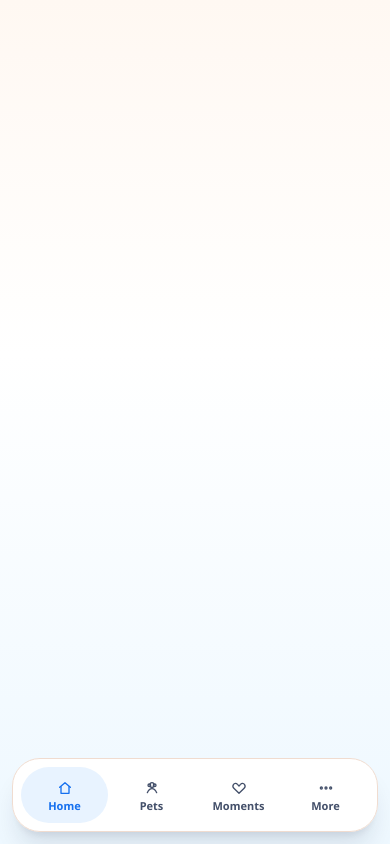
Scenario: keeps only available secondary destinations in More
Click the button "More" at (326, 795), box [282,767,369,823]
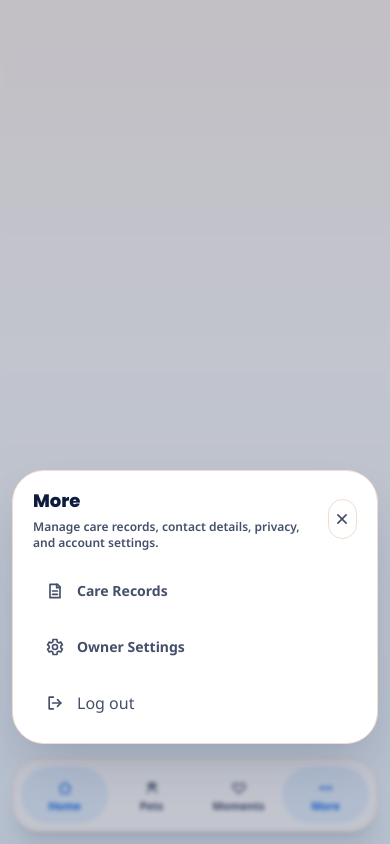
Expected: the link "Care Records" is shown, [45,581,168,601]
Expected: the link "Owner Settings" is shown, [45,637,185,657]
Expected: the button "Log out" is shown, [29,679,361,727]
